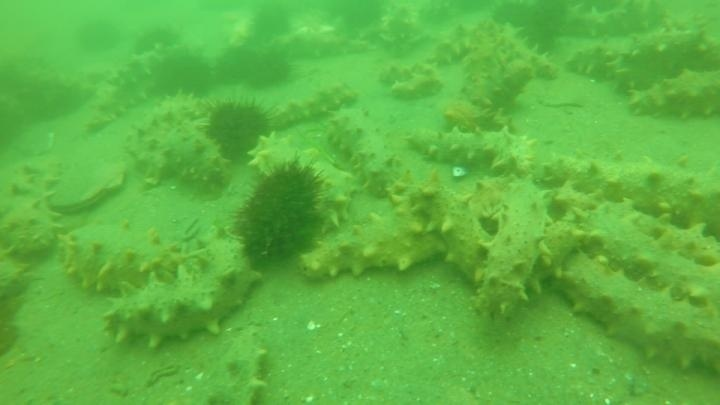echinus: (231, 160, 329, 272), (200, 97, 272, 165), (488, 1, 569, 53), (147, 47, 217, 104), (240, 43, 298, 92), (207, 38, 261, 87), (329, 1, 388, 35), (130, 22, 184, 59), (74, 16, 123, 56), (248, 4, 295, 43)
holothurian: (101, 223, 263, 352), (550, 259, 720, 377), (567, 195, 720, 312), (542, 149, 720, 238), (297, 189, 449, 283), (469, 175, 563, 324), (391, 168, 494, 288), (55, 218, 197, 297), (235, 126, 349, 224), (126, 94, 230, 195), (602, 196, 719, 270), (82, 45, 169, 135), (403, 123, 539, 179), (325, 107, 404, 201), (1, 153, 65, 262), (623, 66, 720, 125), (611, 23, 719, 75), (268, 74, 361, 126), (488, 11, 562, 76), (209, 328, 271, 405), (559, 1, 669, 43), (268, 24, 367, 62), (425, 18, 496, 70), (469, 61, 538, 108), (560, 42, 629, 85), (377, 1, 429, 53), (385, 75, 447, 103), (376, 59, 438, 86)
scallop: (44, 152, 130, 217)
starfish: (439, 98, 511, 137)
